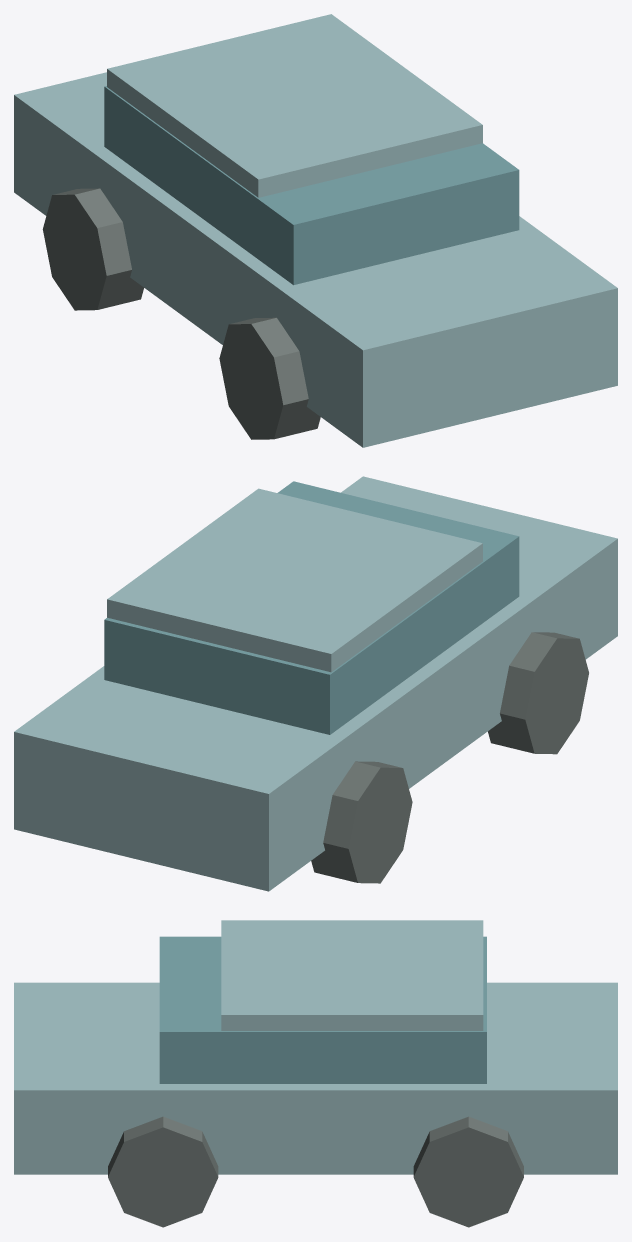
3 renders of one model, top to bottom at view 1: azimuth 30°, elevation 25°; view 2: azimuth 150°, elevation 25°; view 3: azimuth 270°, elevation 25°, orthographic. The views are drawn at different scales.
Bounding box in the file's own units: 2.1 × 1.48 × 4.15.
